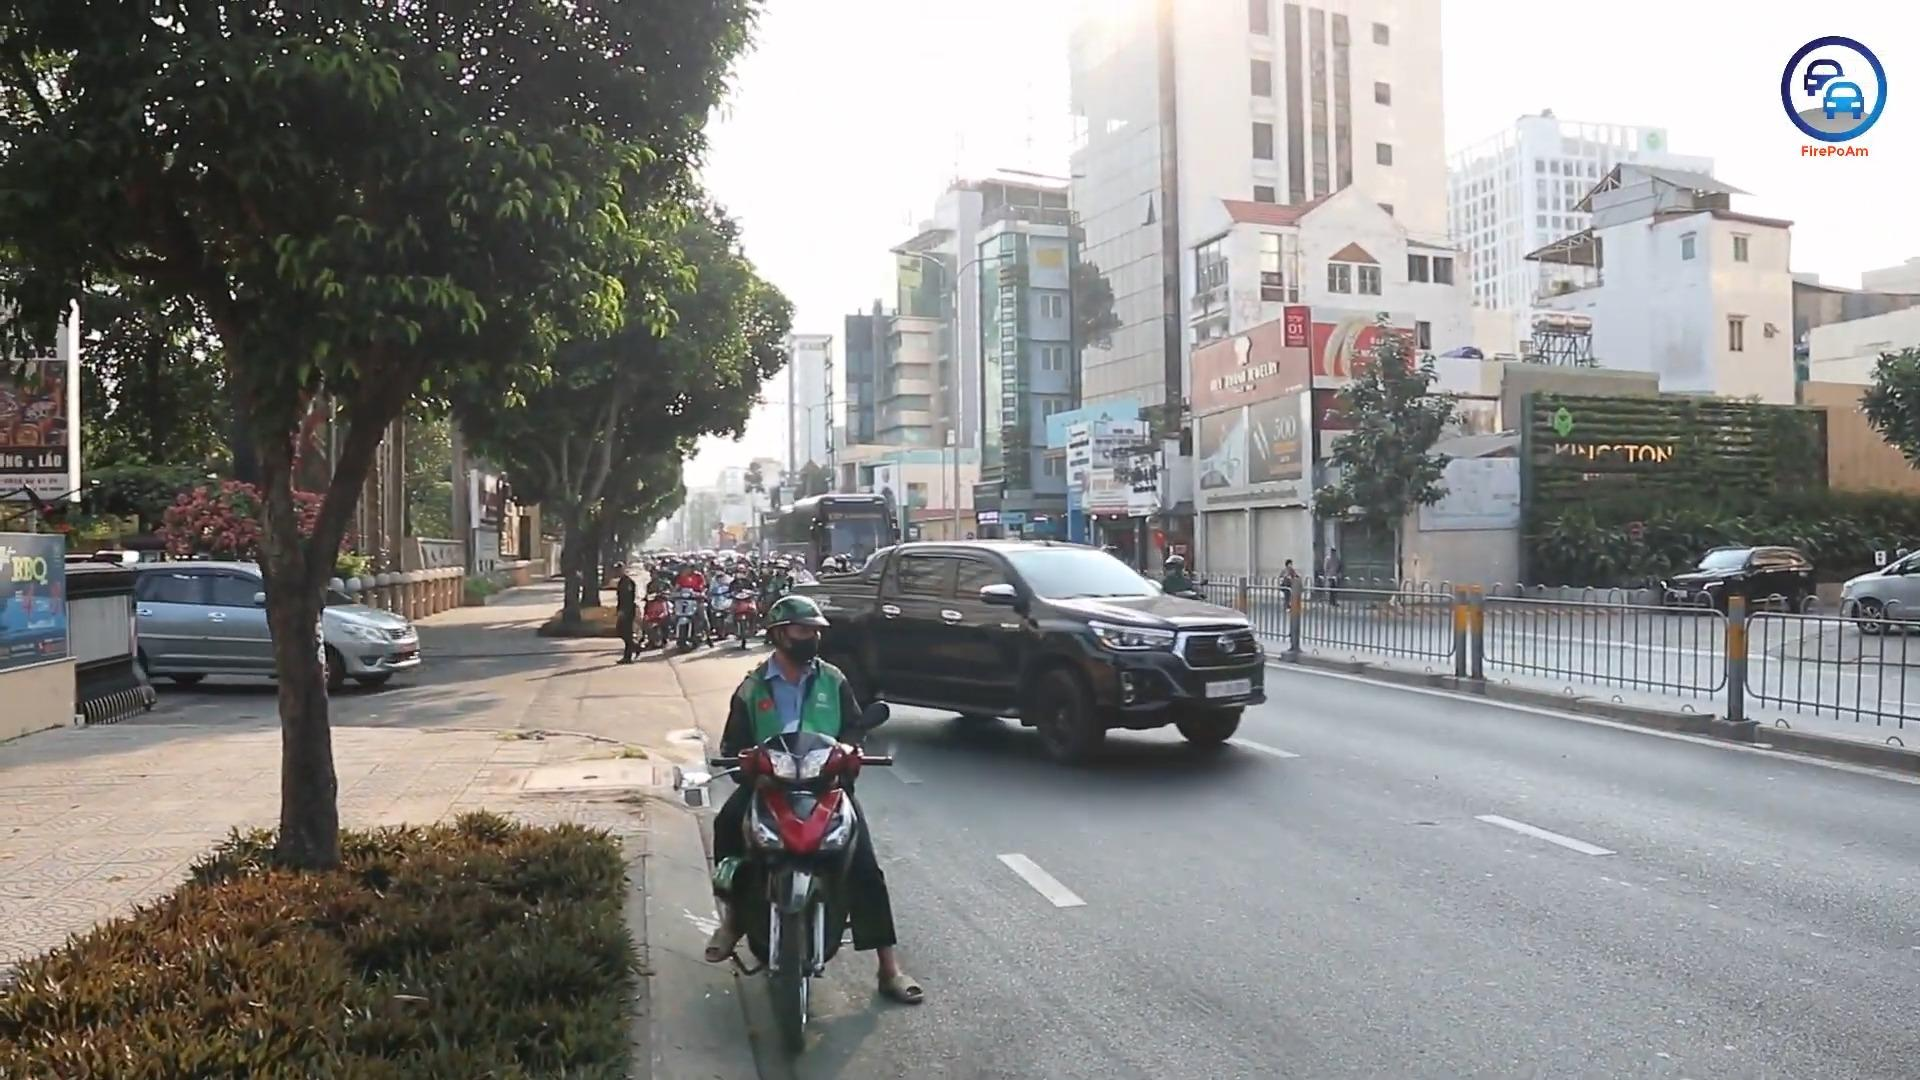bien_so: (1203, 676, 1252, 700)
